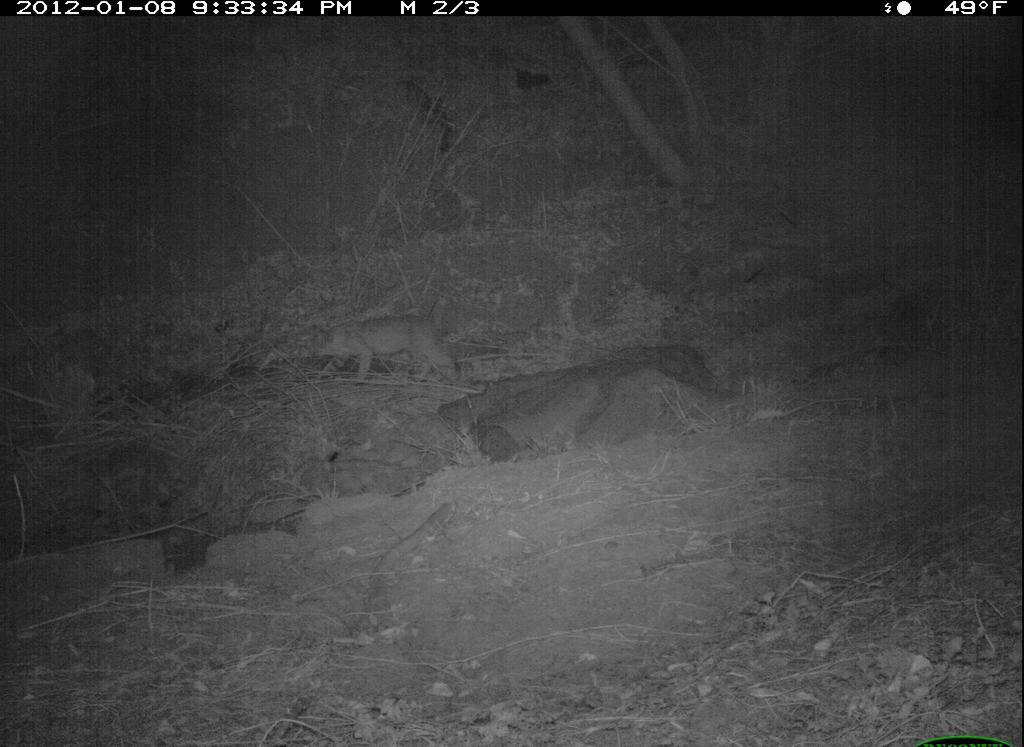bobcat: (310, 313, 474, 387)
